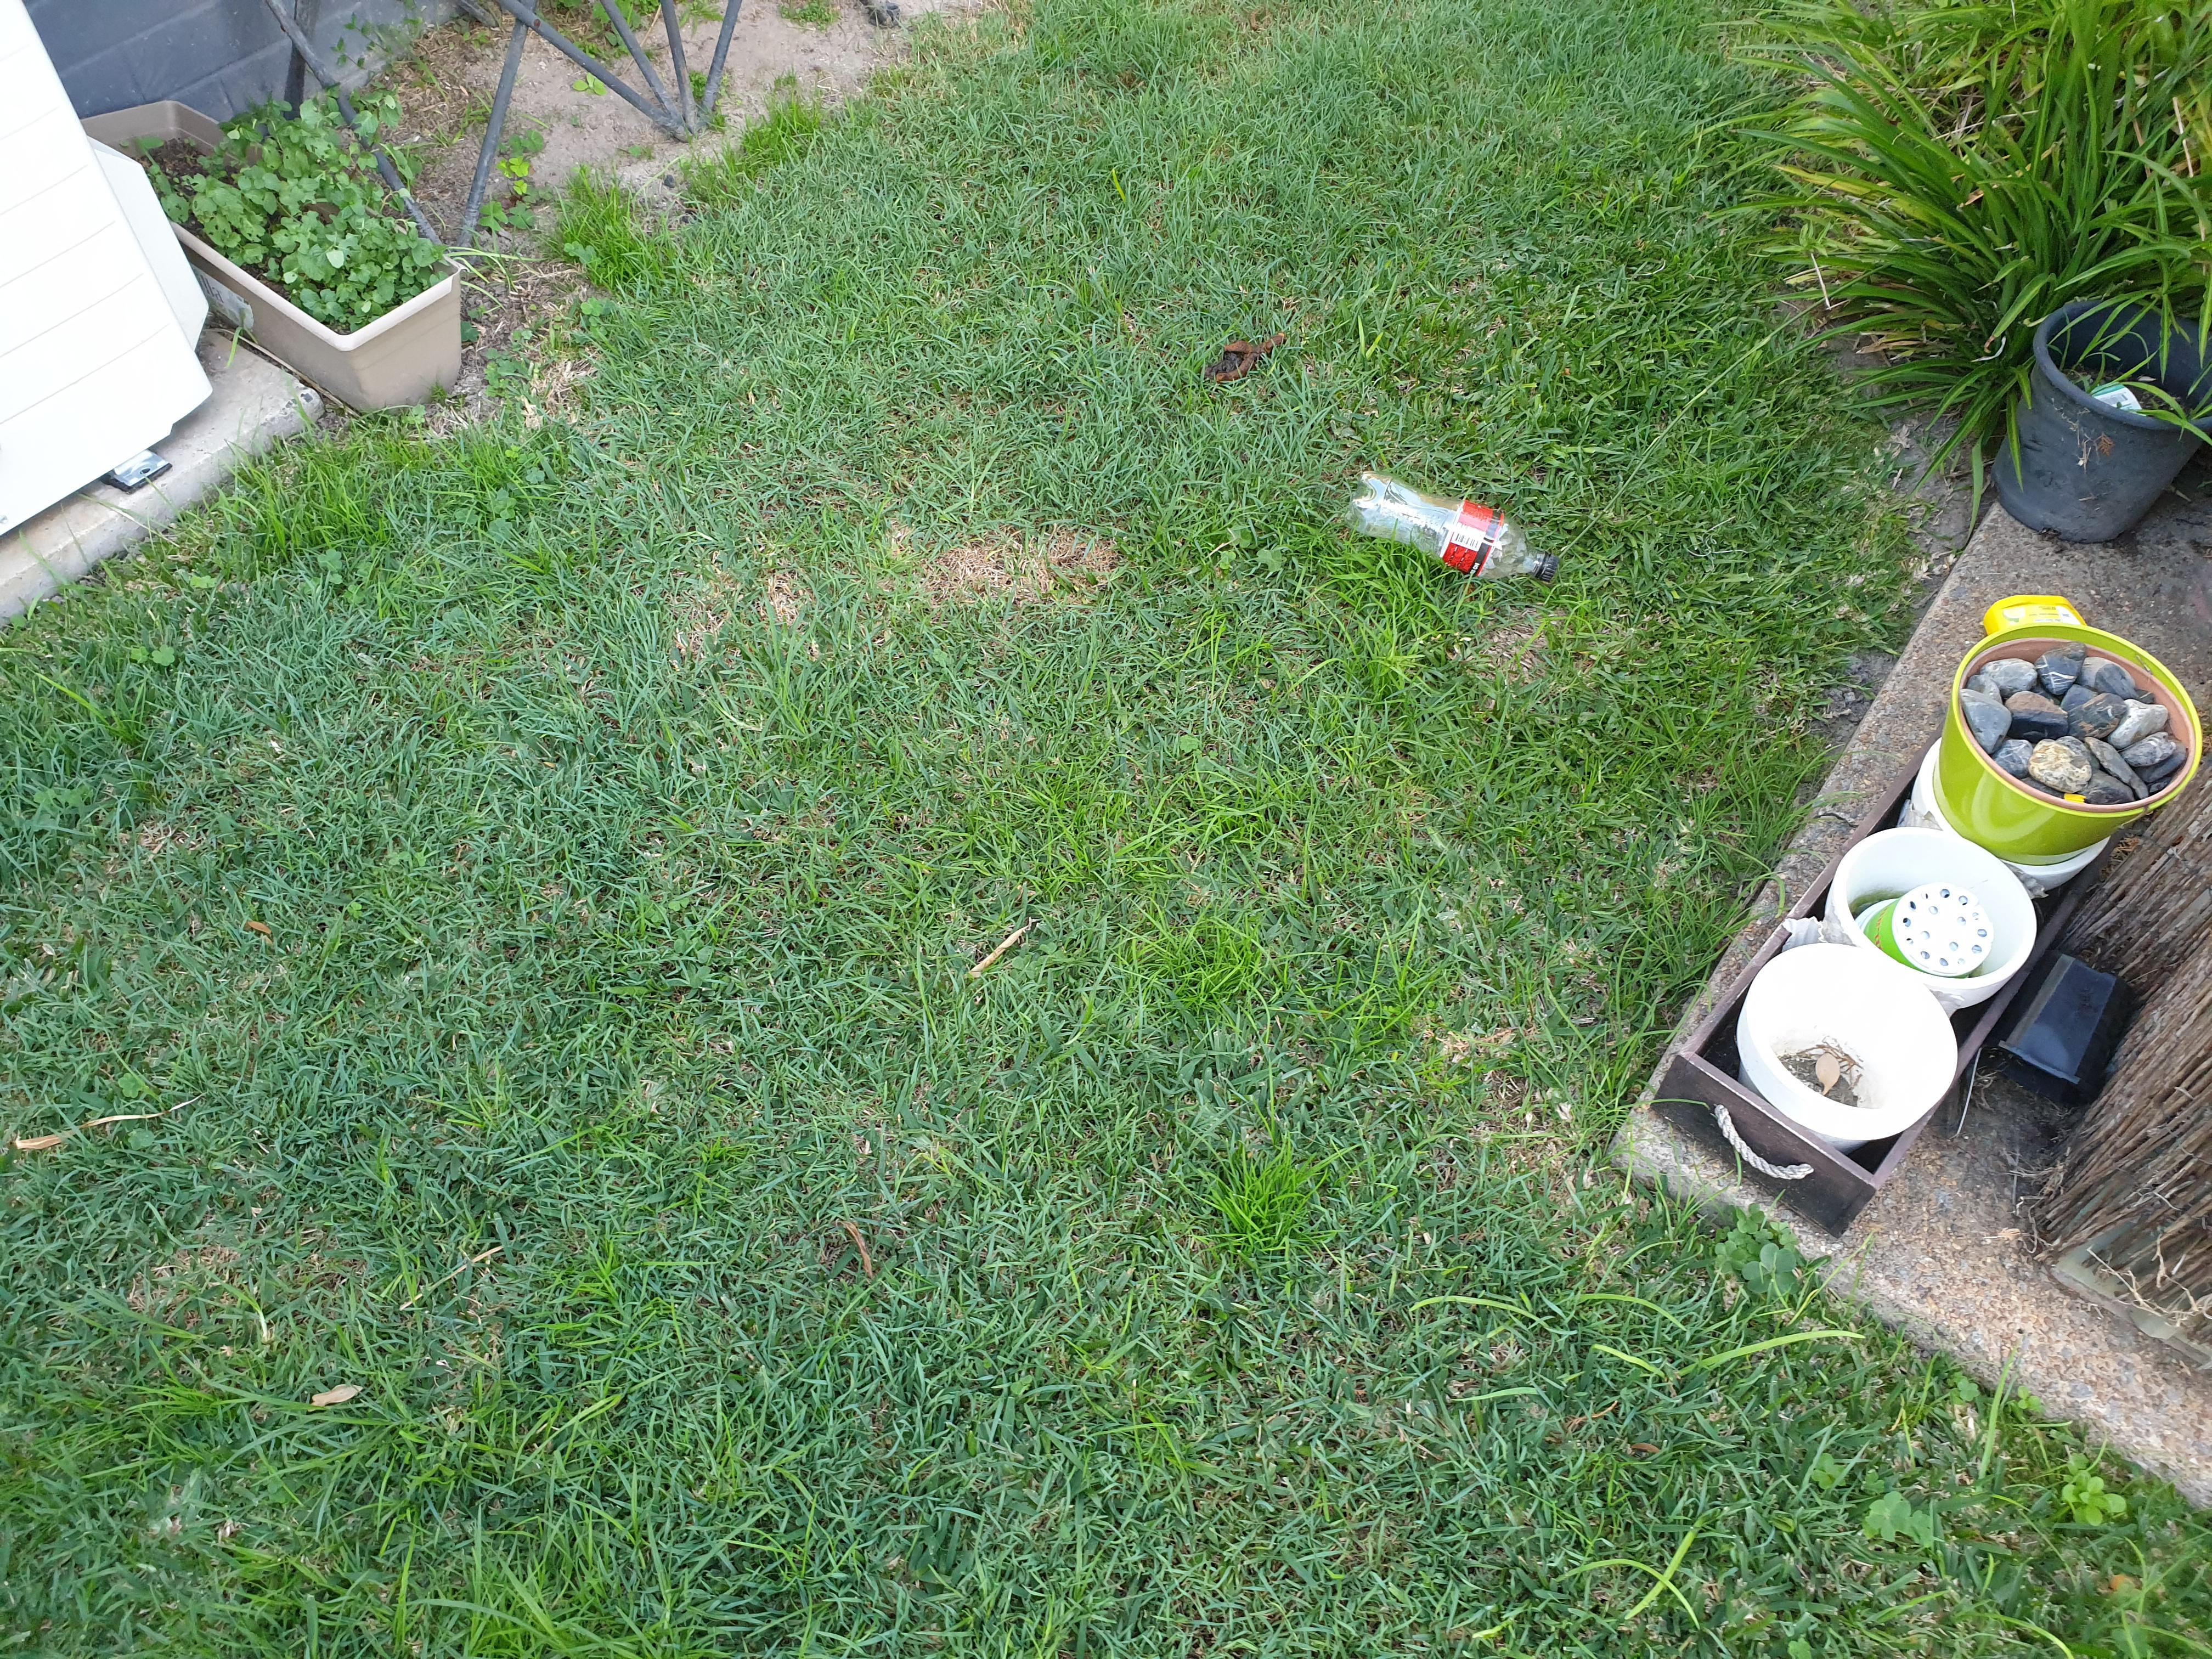Plastic Bottle: (1343, 471, 1561, 586)
